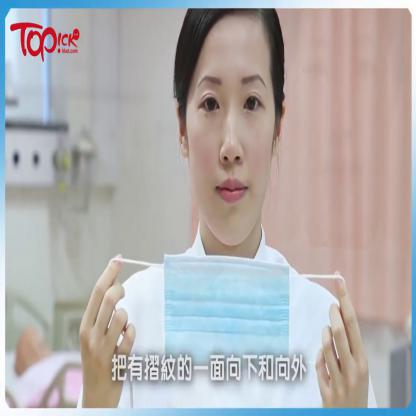Not_Wearing_Mask: (184, 63, 274, 244)
